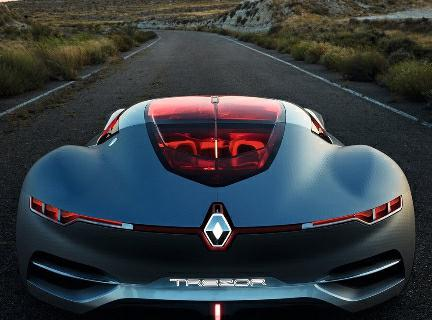雷诺-TREZOR: (10, 89, 423, 315)
